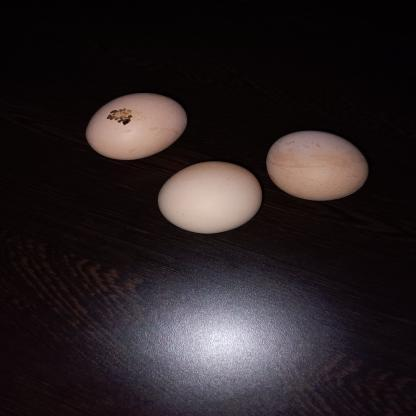egg: (155, 160, 264, 233), (262, 131, 372, 203), (85, 92, 190, 163)
